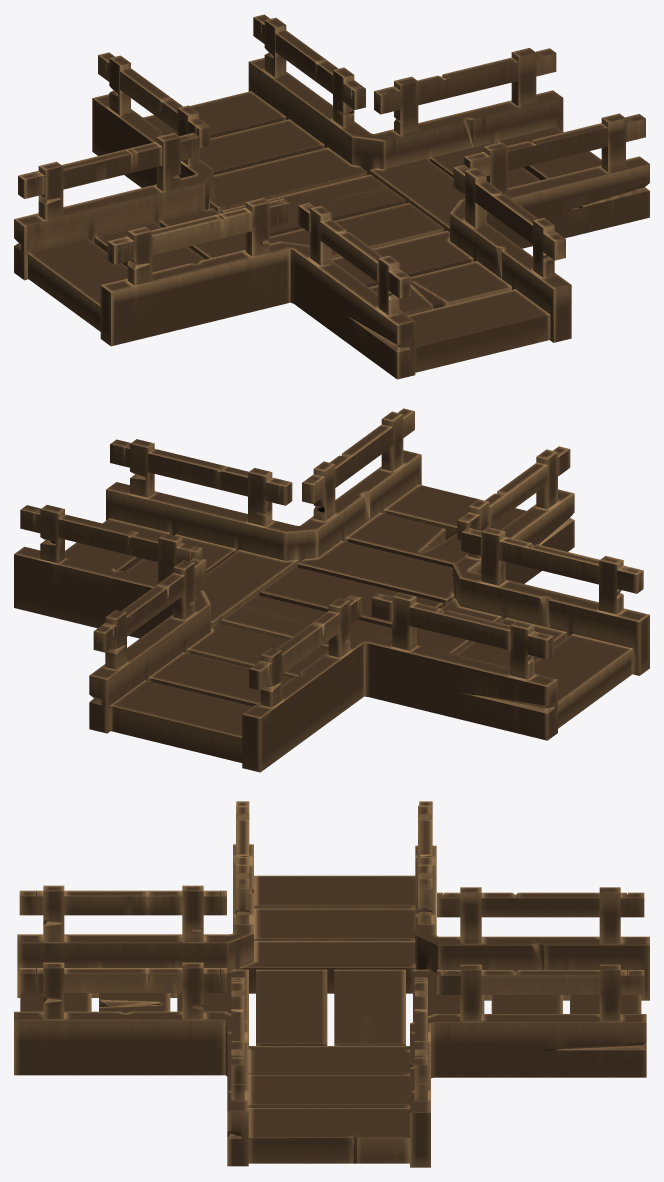
The model's file is Bridge2.gltf.
3 views of the same model, one above another, from view 1: azimuth 30°, elevation 25°; view 2: azimuth 150°, elevation 25°; view 3: azimuth 270°, elevation 25° (orthographic). The views are drawn at different scales.
Parts seen in each view (by area): view 1: Bridge2; view 2: Bridge2; view 3: Bridge2.
Part boxes in pixels (box(x1,y1,x2,y2)): Bridge2: box(14, 14, 649, 379); Bridge2: box(14, 408, 649, 772); Bridge2: box(14, 801, 649, 1167).
Bounding box in the file's own units: 5.22 × 0.9559 × 5.22.
1 material, 1 textured.
